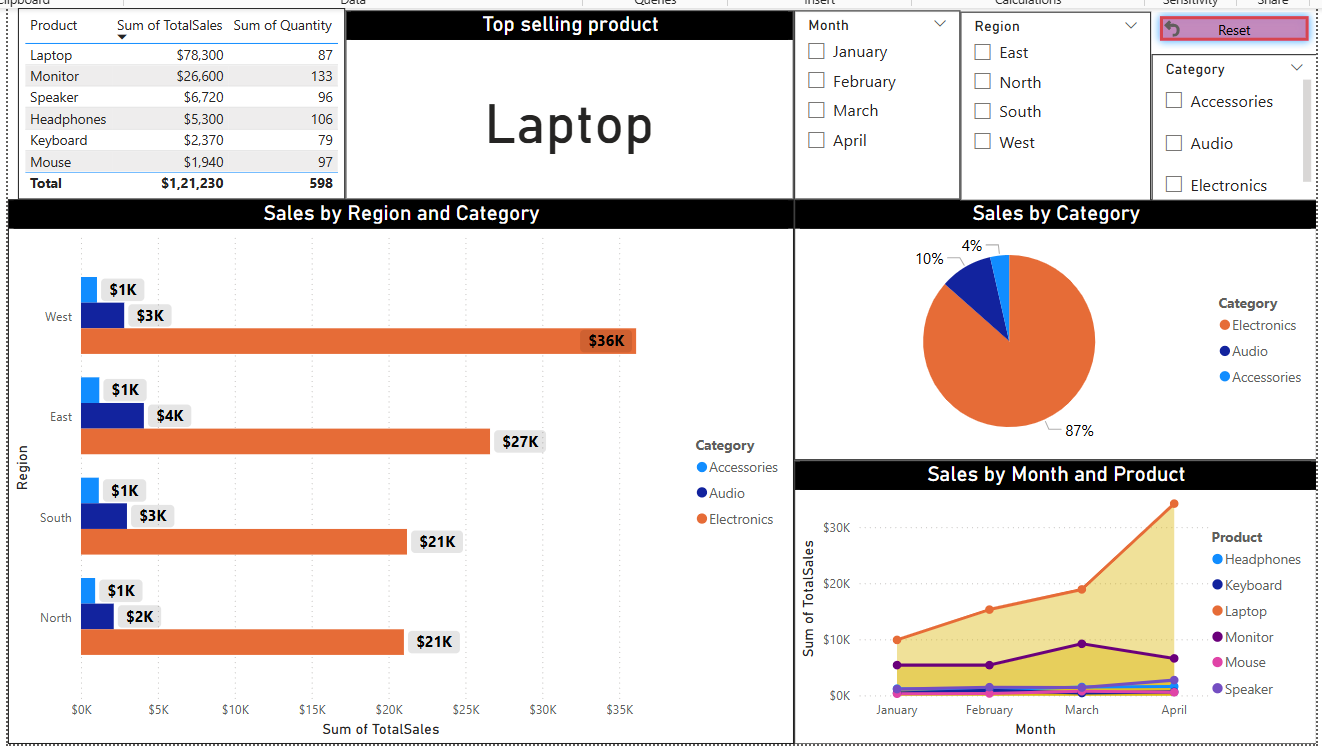

This screenshot's page, from the dashboard's own definition file:
{"tool":"powerbi","page":{"name":"ProductPerformance","canvas":[1280,720],"ordinal":1},"visuals":[{"type":"tableEx","fields":{"Values":["Sheet1.Product","Sum(Sheet1.TotalSales)","Sum(Sheet1.Quantity)"]},"box":[9.8,0,320.4,187.1],"z":0},{"type":"pieChart","title":"Sales by Category","fields":{"Y":["Sum(Sheet1.TotalSales)"],"Category":["Sheet1.Category"]},"box":[768.8,187.5,511.2,255],"z":1000},{"type":"card","title":"Top selling product","fields":{"Values":["Sheet1.TopProductSales"]},"box":[330,2.5,438.8,185],"z":2000},{"type":"lineChart","title":"Sales by Month and Product","fields":{"Category":["Sheet1.Date.Variation.Date Hierarchy.Month"],"Series":["Sheet1.Product"],"Y":["Sum(Sheet1.TotalSales)"]},"box":[768.8,442.5,511.2,277.5],"z":3000},{"type":"clusteredBarChart","title":"Sales by Region and Category","fields":{"Y":["Sum(Sheet1.TotalSales)"],"Category":["Sheet1.Region"],"Series":["Sheet1.Category"]},"box":[0,187.5,768.8,532.5],"z":4000},{"type":"slicer","fields":{"Values":["Sheet1.Date.Variation.Date Hierarchy.Month"]},"box":[768.8,2.5,162.5,185],"z":5000},{"type":"slicer","fields":{"Values":["Sheet1.Category"]},"box":[1118.3,45,161.7,143.3],"z":6000},{"type":"slicer","fields":{"Values":["Sheet1.Region"]},"box":[931.7,3.3,186.7,185],"z":7000},{"type":"actionButton","box":[1118.6,0,161.4,40],"z":8000}]}

Visuals, with their boxes in screenshot pixels (x1, y1, x2, y2):
tableEx - Sheet1.Product x Sum(Sheet1.TotalSales): Rect(17, 7, 343, 197)
"Sales by Category" pieChart: Rect(790, 198, 1311, 458)
"Top selling product" card: Rect(343, 9, 790, 198)
"Sales by Month and Product" lineChart: Rect(790, 458, 1311, 740)
"Sales by Region and Category" clusteredBarChart: Rect(7, 198, 790, 740)
slicer - Sheet1.Date.Variation.Date Hierarchy.Month: Rect(790, 9, 955, 198)
slicer - Sheet1.Category: Rect(1146, 53, 1311, 199)
slicer - Sheet1.Region: Rect(956, 10, 1146, 199)
actionButton: Rect(1146, 7, 1311, 48)
